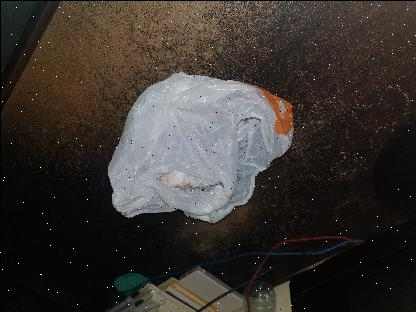Others: (105, 70, 296, 224)
